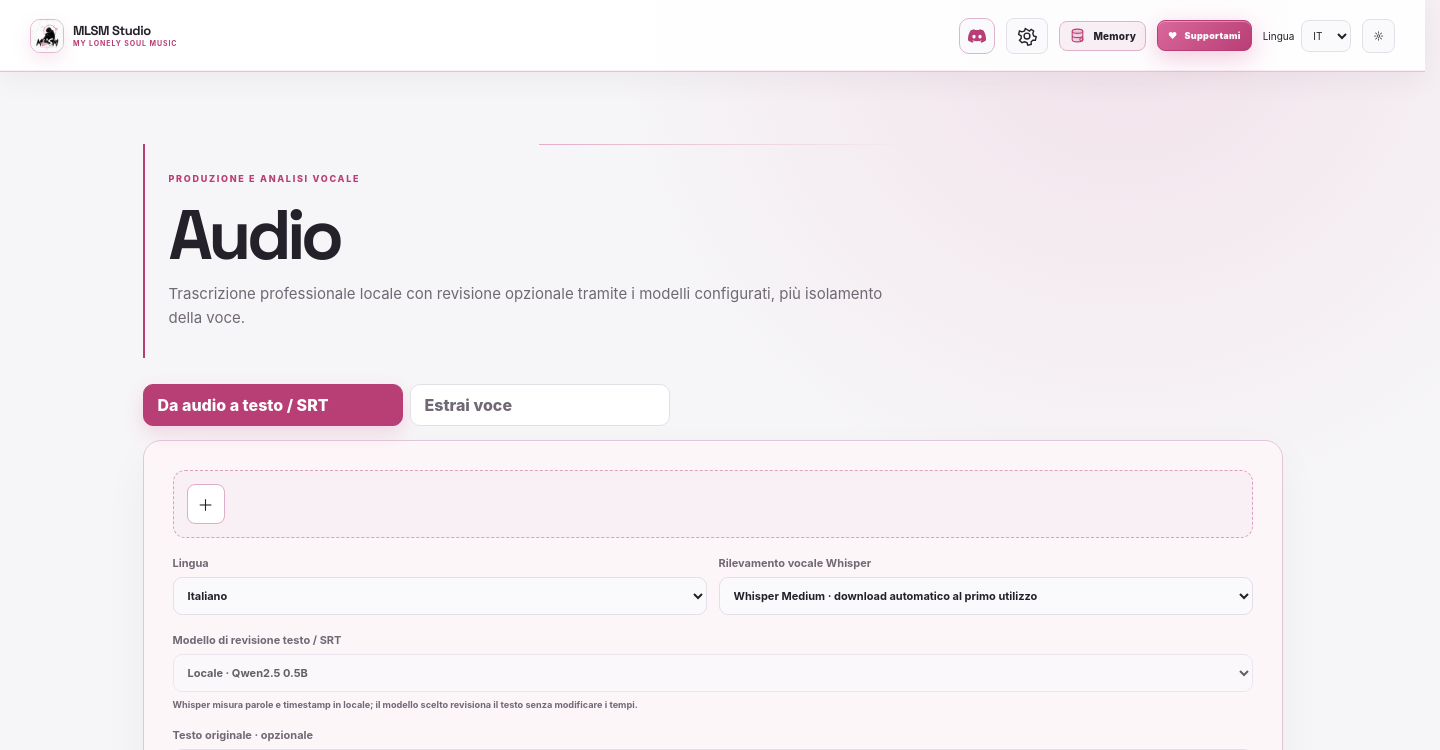
Test: AudioWorkspace › espone trascrizione ed estrazione voce senza il lento Text to Speech locale
The image size is (1440, 750).
Expected: the button "Da audio a testo / SRT" is shown, [142,384,402,426]
Step 1. Click the button "Estrai voce" → x=468, y=405, box [410,384,670,426]
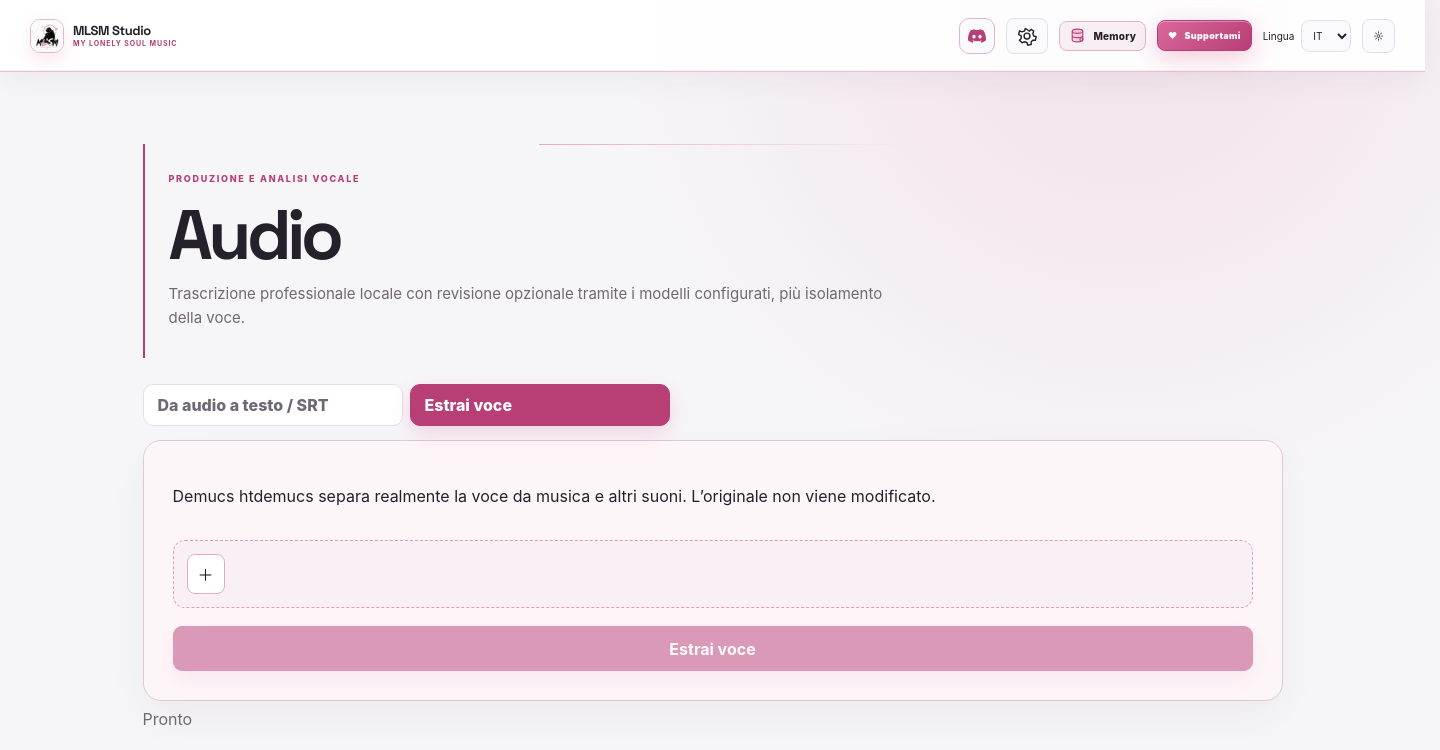
Expected: the text "Demucs htdemucs separa realmente" is shown, [172,486,936,506]
